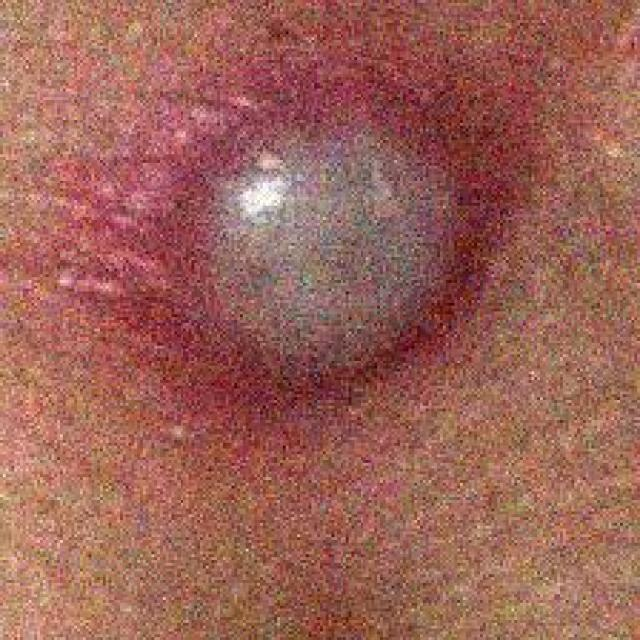monkeypox: (23, 8, 628, 620)
